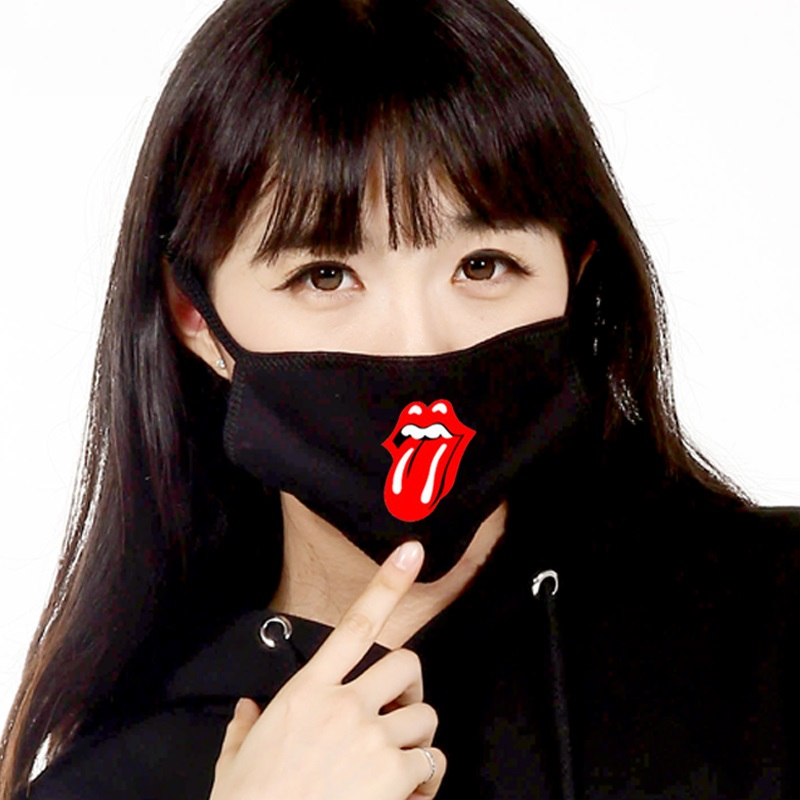face_mask: (219, 89, 566, 535)
